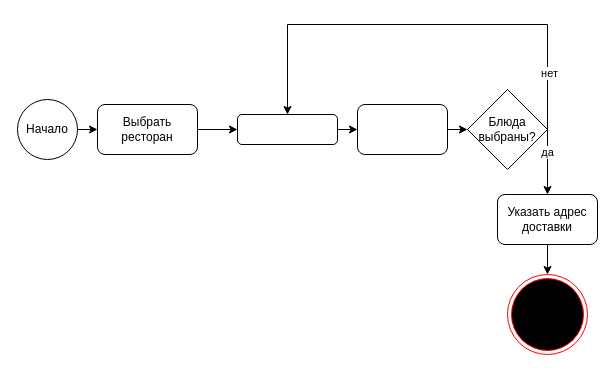
This 615x372 diagram has some shape labels left out. Here are the shapes that lost their labels. From the top down, the centre of each, then its label:
At [287,129]: "Просмотреть меню".
At [402,129]: "Добавить блюда в корзину".
